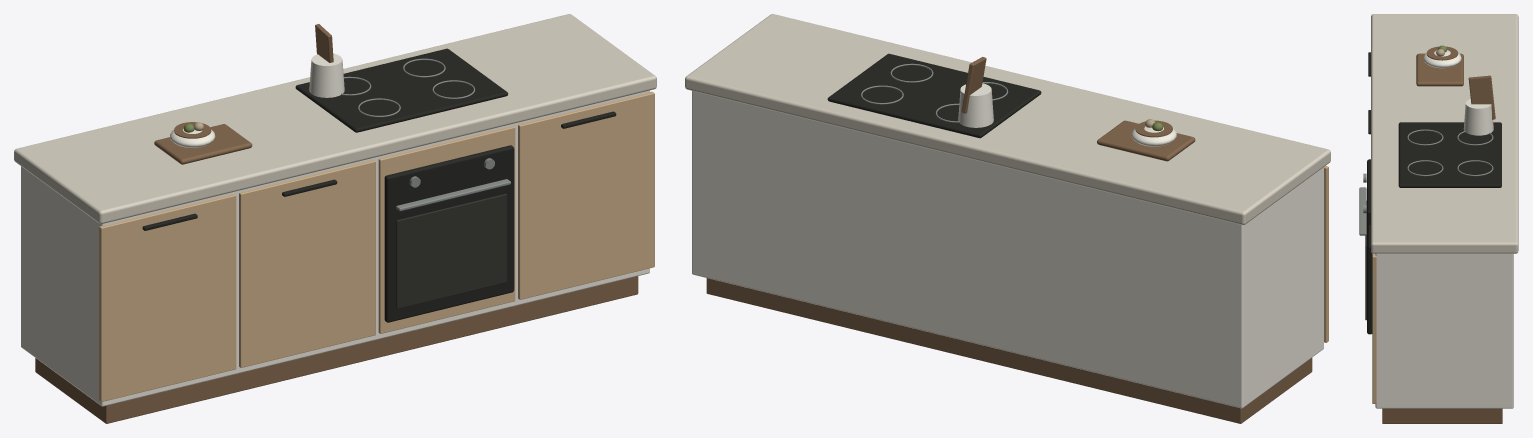
The model's file is kitchenCooker.glb.
3 renders of one model, left to right at view 1: azimuth 30°, elevation 25°; view 2: azimuth 150°, elevation 25°; view 3: azimuth 270°, elevation 25°, orthographic. The views are drawn at different scales.
Parts seen in each view (by area): view 1: studio/oakLight, studio/stone, studio/cream, studio/black, studio/oakDark, studio/charcoal, studio/ceramic, studio/metal (×2); view 2: studio/cream, studio/stone, studio/oakDark, studio/black, studio/ceramic, studio/oakLight, studio/metal; view 3: studio/stone, studio/cream, studio/black, studio/oakDark, studio/ceramic, studio/metal (×2), studio/oakLight, studio/charcoal.
Boxes of the visible parts, box(x1,y1,x2,y2) form: studio/oakLight: box(99, 91, 654, 401); studio/stone: box(14, 14, 656, 223); studio/cream: box(21, 90, 649, 406); studio/black: box(142, 48, 616, 322); studio/oakDark: box(35, 24, 638, 423); studio/charcoal: box(396, 193, 506, 309); studio/ceramic: box(170, 53, 344, 147); studio/metal (×2): box(341, 58, 510, 211); studio/cream: box(692, 91, 1323, 408); studio/stone: box(685, 14, 1330, 224); studio/oakDark: box(706, 57, 1312, 423); studio/black: box(827, 53, 1041, 138); studio/ceramic: box(958, 83, 1176, 146); studio/oakLight: box(1324, 166, 1328, 342); studio/metal: box(861, 63, 1008, 122); studio/stone: box(1371, 14, 1518, 253); studio/cream: box(1375, 253, 1513, 408); studio/black: box(1367, 52, 1501, 334); studio/oakDark: box(1382, 46, 1502, 423); studio/ceramic: box(1423, 50, 1493, 135); studio/metal (×2): box(1359, 129, 1493, 235); studio/oakLight: box(1372, 253, 1376, 403); studio/charcoal: box(1365, 201, 1366, 320).
Size of the model in its own units: 2.4 by 1.18 by 0.7005.
